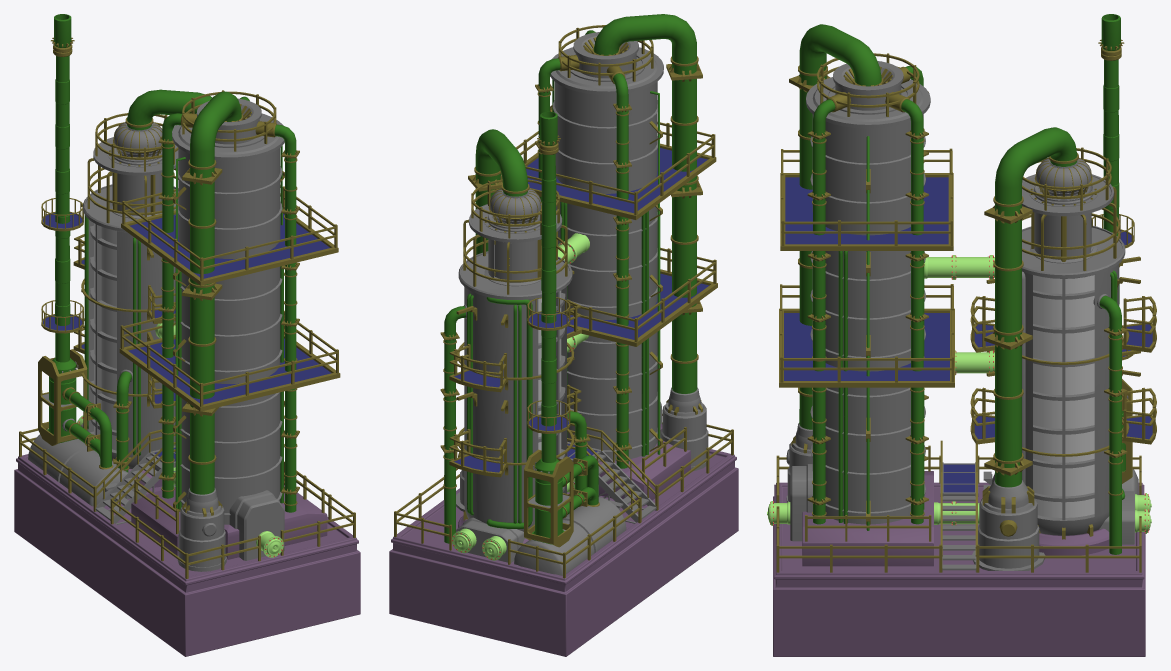
The model's file is OilRefinery.fbx.
The picture shows the model from 3 angles, left to right: view 1: azimuth 30°, elevation 25°; view 2: azimuth 150°, elevation 25°; view 3: azimuth 270°, elevation 25°; orthographic projection. The views are drawn at different scales.
Parts seen in each view (by area): view 1: Fuel_Plant.092, Fuel_Plant.136, Fuel_Plant.004, Fuel_Plant.090, Fuel_Plant.155, Fuel_Plant.120, Fuel_Plant.148, Fuel_Plant.119, Fuel_Plant.061, Fuel_Plant.146, Fuel_Plant.144, Fuel_Plant.101 (+28 smaller); view 2: Fuel_Plant.092, Fuel_Plant.136, Fuel_Plant.004, Fuel_Plant.090, Fuel_Plant.120, Fuel_Plant.155, Fuel_Plant.119, Fuel_Plant.085, Fuel_Plant.128, Fuel_Plant.087, Fuel_Plant.061, Fuel_Plant.146 (+30 smaller); view 3: Fuel_Plant.092, Fuel_Plant.136, Fuel_Plant.004, Fuel_Plant.085, Fuel_Plant.155, Fuel_Plant.090, Fuel_Plant.148, Fuel_Plant.146, Fuel_Plant.144, Fuel_Plant.067, Fuel_Plant.087, Fuel_Plant.093 (+33 smaller).
Boxes of the visible parts, x1,y1,x2,y2 form: Fuel_Plant.092: (14, 454, 360, 656); Fuel_Plant.136: (172, 98, 284, 524); Fuel_Plant.004: (83, 173, 178, 468); Fuel_Plant.090: (190, 91, 241, 494); Fuel_Plant.155: (162, 96, 296, 512); Fuel_Plant.120: (47, 14, 77, 443); Fuel_Plant.148: (131, 485, 327, 559); Fuel_Plant.119: (28, 429, 134, 506); Fuel_Plant.061: (177, 488, 226, 571); Fuel_Plant.146: (129, 213, 329, 278); Fuel_Plant.144: (128, 338, 331, 404); Fuel_Plant.101: (120, 310, 338, 406); Fuel_Plant.092: (389, 449, 738, 656); Fuel_Plant.136: (550, 32, 663, 461); Fuel_Plant.004: (458, 239, 572, 531); Fuel_Plant.090: (593, 14, 697, 393); Fuel_Plant.120: (532, 111, 564, 544); Fuel_Plant.155: (538, 30, 628, 468); Fuel_Plant.119: (514, 497, 626, 575); Fuel_Plant.085: (475, 129, 527, 254); Fuel_Plant.128: (524, 449, 573, 547); Fuel_Plant.087: (444, 306, 465, 543); Fuel_Plant.061: (661, 387, 708, 470); Fuel_Plant.146: (526, 148, 707, 213); Fuel_Plant.092: (773, 482, 1145, 656); Fuel_Plant.136: (806, 61, 930, 524); Fuel_Plant.004: (1022, 212, 1125, 535); Fuel_Plant.085: (995, 127, 1077, 487); Fuel_Plant.155: (813, 66, 923, 524); Fuel_Plant.090: (799, 24, 881, 429); Fuel_Plant.148: (802, 471, 933, 566); Fuel_Plant.146: (785, 177, 948, 244); Fuel_Plant.144: (784, 313, 949, 380); Fuel_Plant.067: (972, 480, 1044, 570); Fuel_Plant.087: (1099, 296, 1121, 554); Fuel_Plant.093: (779, 455, 1139, 572).
Size of the model in its own units: 5.88 by 16.57 by 10.38.
